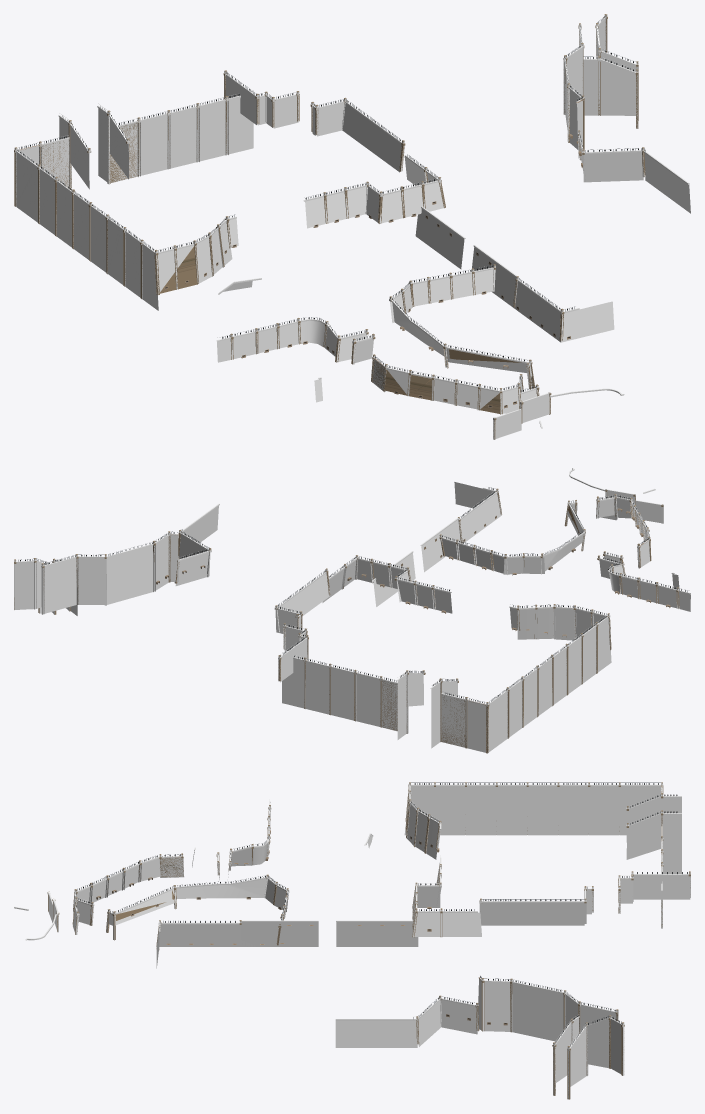
The model's file is objects_un_c01wall02.gltf.
The picture shows the model from 3 angles, top to bottom: view 1: azimuth 30°, elevation 25°; view 2: azimuth 150°, elevation 25°; view 3: azimuth 270°, elevation 25°; orthographic projection. The views are drawn at different scales.
Visible parts, largest first — view 1: um_objects_un_c01wall02_model_0__1_shape:objects_un_c01wall0 (×4), um_objects_un_c01wall02_model_0_0_shape:objects_un_c01wall02 (×3), um_objects_un_c01wall02_model_0__2_shape:objects_un_c01wall0 (×2), um_objects_un_c01wall02_model_0_1_shape:objects_un_c01wall02; view 2: um_objects_un_c01wall02_model_0__1_shape:objects_un_c01wall0 (×4), um_objects_un_c01wall02_model_0__2_shape:objects_un_c01wall0 (×2), um_objects_un_c01wall02_model_0_0_shape:objects_un_c01wall02 (×2), um_objects_un_c01wall02_model_0_1_shape:objects_un_c01wall02; view 3: um_objects_un_c01wall02_model_0__1_shape:objects_un_c01wall0 (×2), um_objects_un_c01wall02_model_0__2_shape:objects_un_c01wall0 (×2), um_objects_un_c01wall02_model_0_0_shape:objects_un_c01wall02 (×2).
Part boxes in pixels (x1,y1,x2,y2): um_objects_un_c01wall02_model_0__1_shape:objects_un_c01wall0 (×4): [14, 70, 465, 310]; um_objects_un_c01wall02_model_0_0_shape:objects_un_c01wall02 (×3): [216, 245, 624, 439]; um_objects_un_c01wall02_model_0__2_shape:objects_un_c01wall0 (×2): [342, 14, 690, 213]; um_objects_un_c01wall02_model_0_1_shape:objects_un_c01wall02: [561, 301, 614, 342]; um_objects_un_c01wall02_model_0__1_shape:objects_un_c01wall0 (×4): [275, 551, 611, 753]; um_objects_un_c01wall02_model_0__2_shape:objects_un_c01wall0 (×2): [14, 503, 370, 632]; um_objects_un_c01wall02_model_0_0_shape:objects_un_c01wall02 (×2): [420, 468, 690, 611]; um_objects_un_c01wall02_model_0_1_shape:objects_un_c01wall02: [454, 482, 495, 508]; um_objects_un_c01wall02_model_0__1_shape:objects_un_c01wall0 (×2): [336, 782, 690, 946]; um_objects_un_c01wall02_model_0__2_shape:objects_un_c01wall0 (×2): [335, 898, 624, 1099]; um_objects_un_c01wall02_model_0_0_shape:objects_un_c01wall02 (×2): [14, 799, 318, 946].
Size of what is drawn, in the model's own units: 245 by 35.81 by 271.
Materials: 6 (5 with a texture image).
